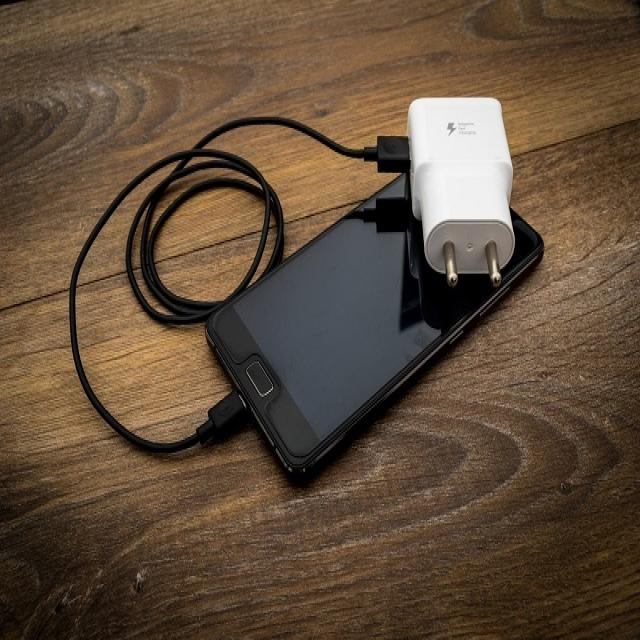battery charger: (368, 70, 531, 320), (164, 330, 290, 529)
phone: (234, 171, 556, 474)
